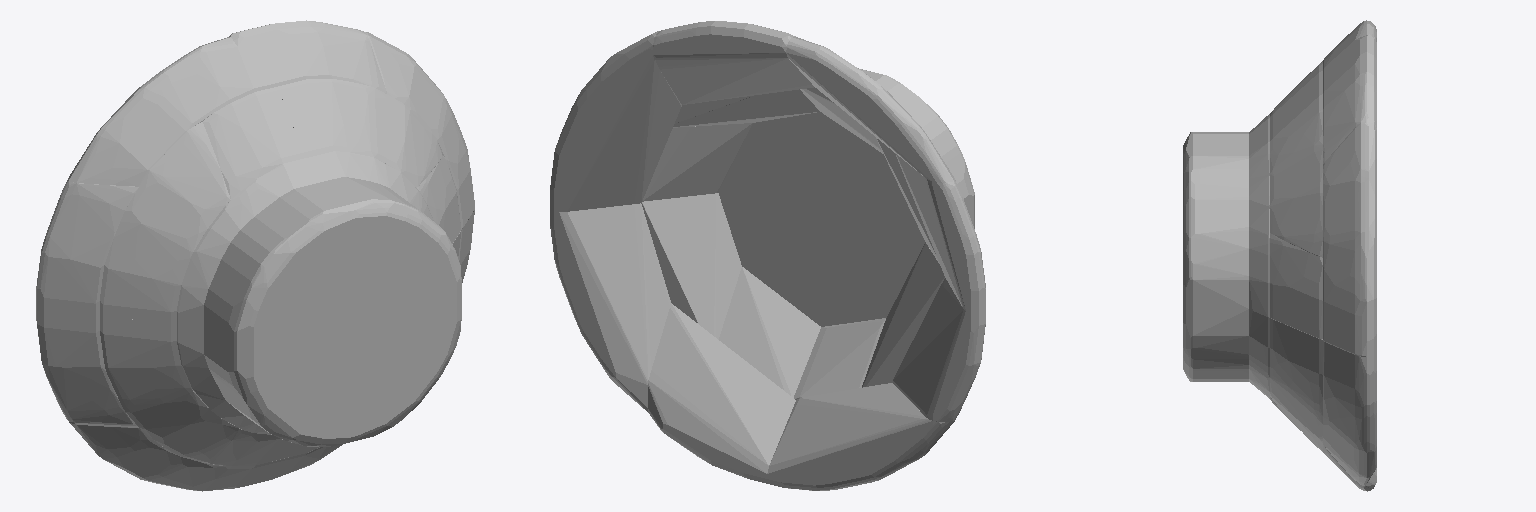
URDF robot description (root):
<robot name="root">
  <link name="link_coacd_convex_piece_0">
    <inertial>
      <origin xyz="0 0 0" rpy="0 0 0"/>
      <inertia ixx="2.73E-03" ixy="-2.59E-05" ixz="-3.11E-06" iyy="5.12E-03" iyz="-1.61E-05" izz="2.74E-03"/>
    </inertial>
    <visual>
      <origin xyz="0 0 0" rpy="0 0 0"/>
      <geometry>
        <mesh filename="coacd_convex_piece_0.obj" scale="1.0000E+00 1.0000E+00 1.0000E+00"/>
      </geometry>
      <material name="">
        <color rgba="7.50E-01 7.50E-01 7.50E-01 1"/>
      </material>
    </visual>
    <collision>
      <origin xyz="0 0 0" rpy="0 0 0"/>
      <geometry>
        <mesh filename="coacd_convex_piece_0.obj" scale="1.0000E+00 1.0000E+00 1.0000E+00"/>
      </geometry>
    </collision>
  </link>
  <link name="link_coacd_convex_piece_1">
    <inertial>
      <origin xyz="0 0 0" rpy="0 0 0"/>
      <inertia ixx="1.30E-02" ixy="-1.54E-05" ixz="-3.33E-06" iyy="1.23E-02" iyz="-5.77E-05" izz="1.29E-02"/>
    </inertial>
    <visual>
      <origin xyz="0 0 0" rpy="0 0 0"/>
      <geometry>
        <mesh filename="coacd_convex_piece_1.obj" scale="1.0000E+00 1.0000E+00 1.0000E+00"/>
      </geometry>
      <material name="">
        <color rgba="7.50E-01 7.50E-01 7.50E-01 1"/>
      </material>
    </visual>
    <collision>
      <origin xyz="0 0 0" rpy="0 0 0"/>
      <geometry>
        <mesh filename="coacd_convex_piece_1.obj" scale="1.0000E+00 1.0000E+00 1.0000E+00"/>
      </geometry>
    </collision>
  </link>
  <joint name="link_coacd_convex_piece_1_joint" type="fixed">
    <origin xyz="0 0 0" rpy="0 0 0"/>
    <parent link="link_coacd_convex_piece_0"/>
    <child link="link_coacd_convex_piece_1"/>
  </joint>
  <link name="link_coacd_convex_piece_2">
    <inertial>
      <origin xyz="0 0 0" rpy="0 0 0"/>
      <inertia ixx="3.57E-03" ixy="-2.92E-03" ixz="-3.34E-03" iyy="9.53E-03" iyz="-1.50E-03" izz="8.38E-03"/>
    </inertial>
    <visual>
      <origin xyz="0 0 0" rpy="0 0 0"/>
      <geometry>
        <mesh filename="coacd_convex_piece_2.obj" scale="1.0000E+00 1.0000E+00 1.0000E+00"/>
      </geometry>
      <material name="">
        <color rgba="7.50E-01 7.50E-01 7.50E-01 1"/>
      </material>
    </visual>
    <collision>
      <origin xyz="0 0 0" rpy="0 0 0"/>
      <geometry>
        <mesh filename="coacd_convex_piece_2.obj" scale="1.0000E+00 1.0000E+00 1.0000E+00"/>
      </geometry>
    </collision>
  </link>
  <joint name="link_coacd_convex_piece_2_joint" type="fixed">
    <origin xyz="0 0 0" rpy="0 0 0"/>
    <parent link="link_coacd_convex_piece_1"/>
    <child link="link_coacd_convex_piece_2"/>
  </joint>
  <link name="link_coacd_convex_piece_3">
    <inertial>
      <origin xyz="0 0 0" rpy="0 0 0"/>
      <inertia ixx="6.97E-03" ixy="-6.06E-04" ixz="-1.56E-03" iyy="6.86E-03" iyz="-2.25E-03" izz="1.53E-03"/>
    </inertial>
    <visual>
      <origin xyz="0 0 0" rpy="0 0 0"/>
      <geometry>
        <mesh filename="coacd_convex_piece_3.obj" scale="1.0000E+00 1.0000E+00 1.0000E+00"/>
      </geometry>
      <material name="">
        <color rgba="7.50E-01 7.50E-01 7.50E-01 1"/>
      </material>
    </visual>
    <collision>
      <origin xyz="0 0 0" rpy="0 0 0"/>
      <geometry>
        <mesh filename="coacd_convex_piece_3.obj" scale="1.0000E+00 1.0000E+00 1.0000E+00"/>
      </geometry>
    </collision>
  </link>
  <joint name="link_coacd_convex_piece_3_joint" type="fixed">
    <origin xyz="0 0 0" rpy="0 0 0"/>
    <parent link="link_coacd_convex_piece_2"/>
    <child link="link_coacd_convex_piece_3"/>
  </joint>
  <link name="link_coacd_convex_piece_4">
    <inertial>
      <origin xyz="0 0 0" rpy="0 0 0"/>
      <inertia ixx="5.84E-03" ixy="1.18E-03" ixz="2.70E-03" iyy="6.87E-03" iyz="-2.05E-03" izz="2.75E-03"/>
    </inertial>
    <visual>
      <origin xyz="0 0 0" rpy="0 0 0"/>
      <geometry>
        <mesh filename="coacd_convex_piece_4.obj" scale="1.0000E+00 1.0000E+00 1.0000E+00"/>
      </geometry>
      <material name="">
        <color rgba="7.50E-01 7.50E-01 7.50E-01 1"/>
      </material>
    </visual>
    <collision>
      <origin xyz="0 0 0" rpy="0 0 0"/>
      <geometry>
        <mesh filename="coacd_convex_piece_4.obj" scale="1.0000E+00 1.0000E+00 1.0000E+00"/>
      </geometry>
    </collision>
  </link>
  <joint name="link_coacd_convex_piece_4_joint" type="fixed">
    <origin xyz="0 0 0" rpy="0 0 0"/>
    <parent link="link_coacd_convex_piece_3"/>
    <child link="link_coacd_convex_piece_4"/>
  </joint>
  <link name="link_coacd_convex_piece_5">
    <inertial>
      <origin xyz="0 0 0" rpy="0 0 0"/>
      <inertia ixx="1.43E-03" ixy="1.79E-03" ixz="1.62E-03" iyy="5.60E-03" iyz="-6.23E-04" izz="5.51E-03"/>
    </inertial>
    <visual>
      <origin xyz="0 0 0" rpy="0 0 0"/>
      <geometry>
        <mesh filename="coacd_convex_piece_5.obj" scale="1.0000E+00 1.0000E+00 1.0000E+00"/>
      </geometry>
      <material name="">
        <color rgba="7.50E-01 7.50E-01 7.50E-01 1"/>
      </material>
    </visual>
    <collision>
      <origin xyz="0 0 0" rpy="0 0 0"/>
      <geometry>
        <mesh filename="coacd_convex_piece_5.obj" scale="1.0000E+00 1.0000E+00 1.0000E+00"/>
      </geometry>
    </collision>
  </link>
  <joint name="link_coacd_convex_piece_5_joint" type="fixed">
    <origin xyz="0 0 0" rpy="0 0 0"/>
    <parent link="link_coacd_convex_piece_4"/>
    <child link="link_coacd_convex_piece_5"/>
  </joint>
  <link name="link_coacd_convex_piece_6">
    <inertial>
      <origin xyz="0 0 0" rpy="0 0 0"/>
      <inertia ixx="2.70E-03" ixy="-2.49E-03" ixz="2.72E-03" iyy="8.02E-03" iyz="1.15E-03" izz="7.29E-03"/>
    </inertial>
    <visual>
      <origin xyz="0 0 0" rpy="0 0 0"/>
      <geometry>
        <mesh filename="coacd_convex_piece_6.obj" scale="1.0000E+00 1.0000E+00 1.0000E+00"/>
      </geometry>
      <material name="">
        <color rgba="7.50E-01 7.50E-01 7.50E-01 1"/>
      </material>
    </visual>
    <collision>
      <origin xyz="0 0 0" rpy="0 0 0"/>
      <geometry>
        <mesh filename="coacd_convex_piece_6.obj" scale="1.0000E+00 1.0000E+00 1.0000E+00"/>
      </geometry>
    </collision>
  </link>
  <joint name="link_coacd_convex_piece_6_joint" type="fixed">
    <origin xyz="0 0 0" rpy="0 0 0"/>
    <parent link="link_coacd_convex_piece_5"/>
    <child link="link_coacd_convex_piece_6"/>
  </joint>
  <link name="link_coacd_convex_piece_7">
    <inertial>
      <origin xyz="0 0 0" rpy="0 0 0"/>
      <inertia ixx="6.26E-03" ixy="-7.31E-04" ixz="1.87E-03" iyy="6.42E-03" iyz="2.04E-03" izz="1.68E-03"/>
    </inertial>
    <visual>
      <origin xyz="0 0 0" rpy="0 0 0"/>
      <geometry>
        <mesh filename="coacd_convex_piece_7.obj" scale="1.0000E+00 1.0000E+00 1.0000E+00"/>
      </geometry>
      <material name="">
        <color rgba="7.50E-01 7.50E-01 7.50E-01 1"/>
      </material>
    </visual>
    <collision>
      <origin xyz="0 0 0" rpy="0 0 0"/>
      <geometry>
        <mesh filename="coacd_convex_piece_7.obj" scale="1.0000E+00 1.0000E+00 1.0000E+00"/>
      </geometry>
    </collision>
  </link>
  <joint name="link_coacd_convex_piece_7_joint" type="fixed">
    <origin xyz="0 0 0" rpy="0 0 0"/>
    <parent link="link_coacd_convex_piece_6"/>
    <child link="link_coacd_convex_piece_7"/>
  </joint>
  <link name="link_coacd_convex_piece_8">
    <inertial>
      <origin xyz="0 0 0" rpy="0 0 0"/>
      <inertia ixx="1.38E-03" ixy="1.73E-03" ixz="-1.59E-03" iyy="5.45E-03" iyz="6.02E-04" izz="5.35E-03"/>
    </inertial>
    <visual>
      <origin xyz="0 0 0" rpy="0 0 0"/>
      <geometry>
        <mesh filename="coacd_convex_piece_8.obj" scale="1.0000E+00 1.0000E+00 1.0000E+00"/>
      </geometry>
      <material name="">
        <color rgba="7.50E-01 7.50E-01 7.50E-01 1"/>
      </material>
    </visual>
    <collision>
      <origin xyz="0 0 0" rpy="0 0 0"/>
      <geometry>
        <mesh filename="coacd_convex_piece_8.obj" scale="1.0000E+00 1.0000E+00 1.0000E+00"/>
      </geometry>
    </collision>
  </link>
  <joint name="link_coacd_convex_piece_8_joint" type="fixed">
    <origin xyz="0 0 0" rpy="0 0 0"/>
    <parent link="link_coacd_convex_piece_7"/>
    <child link="link_coacd_convex_piece_8"/>
  </joint>
  <link name="link_coacd_convex_piece_9">
    <inertial>
      <origin xyz="0 0 0" rpy="0 0 0"/>
      <inertia ixx="7.34E-03" ixy="1.31E-03" ixz="-2.98E-03" iyy="8.32E-03" iyz="2.54E-03" izz="3.09E-03"/>
    </inertial>
    <visual>
      <origin xyz="0 0 0" rpy="0 0 0"/>
      <geometry>
        <mesh filename="coacd_convex_piece_9.obj" scale="1.0000E+00 1.0000E+00 1.0000E+00"/>
      </geometry>
      <material name="">
        <color rgba="7.50E-01 7.50E-01 7.50E-01 1"/>
      </material>
    </visual>
    <collision>
      <origin xyz="0 0 0" rpy="0 0 0"/>
      <geometry>
        <mesh filename="coacd_convex_piece_9.obj" scale="1.0000E+00 1.0000E+00 1.0000E+00"/>
      </geometry>
    </collision>
  </link>
  <joint name="link_coacd_convex_piece_9_joint" type="fixed">
    <origin xyz="0 0 0" rpy="0 0 0"/>
    <parent link="link_coacd_convex_piece_8"/>
    <child link="link_coacd_convex_piece_9"/>
  </joint>
  <link name="link_coacd_convex_piece_10">
    <inertial>
      <origin xyz="0 0 0" rpy="0 0 0"/>
      <inertia ixx="3.14E-03" ixy="-2.91E-04" ixz="-1.53E-03" iyy="4.26E-03" iyz="-4.79E-04" izz="1.29E-03"/>
    </inertial>
    <visual>
      <origin xyz="0 0 0" rpy="0 0 0"/>
      <geometry>
        <mesh filename="coacd_convex_piece_10.obj" scale="1.0000E+00 1.0000E+00 1.0000E+00"/>
      </geometry>
      <material name="">
        <color rgba="7.50E-01 7.50E-01 7.50E-01 1"/>
      </material>
    </visual>
    <collision>
      <origin xyz="0 0 0" rpy="0 0 0"/>
      <geometry>
        <mesh filename="coacd_convex_piece_10.obj" scale="1.0000E+00 1.0000E+00 1.0000E+00"/>
      </geometry>
    </collision>
  </link>
  <joint name="link_coacd_convex_piece_10_joint" type="fixed">
    <origin xyz="0 0 0" rpy="0 0 0"/>
    <parent link="link_coacd_convex_piece_9"/>
    <child link="link_coacd_convex_piece_10"/>
  </joint>
  <link name="link_coacd_convex_piece_11">
    <inertial>
      <origin xyz="0 0 0" rpy="0 0 0"/>
      <inertia ixx="2.53E-04" ixy="-2.44E-04" ixz="-5.54E-04" iyy="2.19E-03" iyz="-6.50E-05" izz="2.00E-03"/>
    </inertial>
    <visual>
      <origin xyz="0 0 0" rpy="0 0 0"/>
      <geometry>
        <mesh filename="coacd_convex_piece_11.obj" scale="1.0000E+00 1.0000E+00 1.0000E+00"/>
      </geometry>
      <material name="">
        <color rgba="7.50E-01 7.50E-01 7.50E-01 1"/>
      </material>
    </visual>
    <collision>
      <origin xyz="0 0 0" rpy="0 0 0"/>
      <geometry>
        <mesh filename="coacd_convex_piece_11.obj" scale="1.0000E+00 1.0000E+00 1.0000E+00"/>
      </geometry>
    </collision>
  </link>
  <joint name="link_coacd_convex_piece_11_joint" type="fixed">
    <origin xyz="0 0 0" rpy="0 0 0"/>
    <parent link="link_coacd_convex_piece_10"/>
    <child link="link_coacd_convex_piece_11"/>
  </joint>
  <link name="link_coacd_convex_piece_12">
    <inertial>
      <origin xyz="0 0 0" rpy="0 0 0"/>
      <inertia ixx="1.21E-03" ixy="-4.81E-04" ixz="1.49E-03" iyy="4.20E-03" iyz="2.61E-04" izz="3.16E-03"/>
    </inertial>
    <visual>
      <origin xyz="0 0 0" rpy="0 0 0"/>
      <geometry>
        <mesh filename="coacd_convex_piece_12.obj" scale="1.0000E+00 1.0000E+00 1.0000E+00"/>
      </geometry>
      <material name="">
        <color rgba="7.50E-01 7.50E-01 7.50E-01 1"/>
      </material>
    </visual>
    <collision>
      <origin xyz="0 0 0" rpy="0 0 0"/>
      <geometry>
        <mesh filename="coacd_convex_piece_12.obj" scale="1.0000E+00 1.0000E+00 1.0000E+00"/>
      </geometry>
    </collision>
  </link>
  <joint name="link_coacd_convex_piece_12_joint" type="fixed">
    <origin xyz="0 0 0" rpy="0 0 0"/>
    <parent link="link_coacd_convex_piece_11"/>
    <child link="link_coacd_convex_piece_12"/>
  </joint>
  <link name="link_coacd_convex_piece_13">
    <inertial>
      <origin xyz="0 0 0" rpy="0 0 0"/>
      <inertia ixx="1.93E-03" ixy="-7.00E-05" ixz="5.64E-04" iyy="2.13E-03" iyz="2.28E-04" izz="2.65E-04"/>
    </inertial>
    <visual>
      <origin xyz="0 0 0" rpy="0 0 0"/>
      <geometry>
        <mesh filename="coacd_convex_piece_13.obj" scale="1.0000E+00 1.0000E+00 1.0000E+00"/>
      </geometry>
      <material name="">
        <color rgba="7.50E-01 7.50E-01 7.50E-01 1"/>
      </material>
    </visual>
    <collision>
      <origin xyz="0 0 0" rpy="0 0 0"/>
      <geometry>
        <mesh filename="coacd_convex_piece_13.obj" scale="1.0000E+00 1.0000E+00 1.0000E+00"/>
      </geometry>
    </collision>
  </link>
  <joint name="link_coacd_convex_piece_13_joint" type="fixed">
    <origin xyz="0 0 0" rpy="0 0 0"/>
    <parent link="link_coacd_convex_piece_12"/>
    <child link="link_coacd_convex_piece_13"/>
  </joint>
  <link name="link_coacd_convex_piece_14">
    <inertial>
      <origin xyz="0 0 0" rpy="0 0 0"/>
      <inertia ixx="1.80E-03" ixy="5.26E-05" ixz="5.14E-04" iyy="1.97E-03" iyz="-2.17E-04" izz="2.32E-04"/>
    </inertial>
    <visual>
      <origin xyz="0 0 0" rpy="0 0 0"/>
      <geometry>
        <mesh filename="coacd_convex_piece_14.obj" scale="1.0000E+00 1.0000E+00 1.0000E+00"/>
      </geometry>
      <material name="">
        <color rgba="7.50E-01 7.50E-01 7.50E-01 1"/>
      </material>
    </visual>
    <collision>
      <origin xyz="0 0 0" rpy="0 0 0"/>
      <geometry>
        <mesh filename="coacd_convex_piece_14.obj" scale="1.0000E+00 1.0000E+00 1.0000E+00"/>
      </geometry>
    </collision>
  </link>
  <joint name="link_coacd_convex_piece_14_joint" type="fixed">
    <origin xyz="0 0 0" rpy="0 0 0"/>
    <parent link="link_coacd_convex_piece_13"/>
    <child link="link_coacd_convex_piece_14"/>
  </joint>
  <link name="link_coacd_convex_piece_15">
    <inertial>
      <origin xyz="0 0 0" rpy="0 0 0"/>
      <inertia ixx="1.16E-03" ixy="4.07E-04" ixz="1.38E-03" iyy="3.75E-03" iyz="-2.55E-04" izz="2.74E-03"/>
    </inertial>
    <visual>
      <origin xyz="0 0 0" rpy="0 0 0"/>
      <geometry>
        <mesh filename="coacd_convex_piece_15.obj" scale="1.0000E+00 1.0000E+00 1.0000E+00"/>
      </geometry>
      <material name="">
        <color rgba="7.50E-01 7.50E-01 7.50E-01 1"/>
      </material>
    </visual>
    <collision>
      <origin xyz="0 0 0" rpy="0 0 0"/>
      <geometry>
        <mesh filename="coacd_convex_piece_15.obj" scale="1.0000E+00 1.0000E+00 1.0000E+00"/>
      </geometry>
    </collision>
  </link>
  <joint name="link_coacd_convex_piece_15_joint" type="fixed">
    <origin xyz="0 0 0" rpy="0 0 0"/>
    <parent link="link_coacd_convex_piece_14"/>
    <child link="link_coacd_convex_piece_15"/>
  </joint>
  <link name="link_coacd_convex_piece_16">
    <inertial>
      <origin xyz="0 0 0" rpy="0 0 0"/>
      <inertia ixx="1.52E-03" ixy="3.76E-05" ixz="-3.77E-04" iyy="1.62E-03" iyz="1.77E-04" izz="1.51E-04"/>
    </inertial>
    <visual>
      <origin xyz="0 0 0" rpy="0 0 0"/>
      <geometry>
        <mesh filename="coacd_convex_piece_16.obj" scale="1.0000E+00 1.0000E+00 1.0000E+00"/>
      </geometry>
      <material name="">
        <color rgba="7.50E-01 7.50E-01 7.50E-01 1"/>
      </material>
    </visual>
    <collision>
      <origin xyz="0 0 0" rpy="0 0 0"/>
      <geometry>
        <mesh filename="coacd_convex_piece_16.obj" scale="1.0000E+00 1.0000E+00 1.0000E+00"/>
      </geometry>
    </collision>
  </link>
  <joint name="link_coacd_convex_piece_16_joint" type="fixed">
    <origin xyz="0 0 0" rpy="0 0 0"/>
    <parent link="link_coacd_convex_piece_15"/>
    <child link="link_coacd_convex_piece_16"/>
  </joint>
  <link name="link_coacd_convex_piece_17">
    <inertial>
      <origin xyz="0 0 0" rpy="0 0 0"/>
      <inertia ixx="1.44E-03" ixy="4.55E-04" ixz="-1.58E-03" iyy="4.31E-03" iyz="2.92E-04" izz="3.04E-03"/>
    </inertial>
    <visual>
      <origin xyz="0 0 0" rpy="0 0 0"/>
      <geometry>
        <mesh filename="coacd_convex_piece_17.obj" scale="1.0000E+00 1.0000E+00 1.0000E+00"/>
      </geometry>
      <material name="">
        <color rgba="7.50E-01 7.50E-01 7.50E-01 1"/>
      </material>
    </visual>
    <collision>
      <origin xyz="0 0 0" rpy="0 0 0"/>
      <geometry>
        <mesh filename="coacd_convex_piece_17.obj" scale="1.0000E+00 1.0000E+00 1.0000E+00"/>
      </geometry>
    </collision>
  </link>
  <joint name="link_coacd_convex_piece_17_joint" type="fixed">
    <origin xyz="0 0 0" rpy="0 0 0"/>
    <parent link="link_coacd_convex_piece_16"/>
    <child link="link_coacd_convex_piece_17"/>
  </joint>
</robot>

--- What the picture shows (computed from the rendered views, not written in the file) ---
Views: 3 orthographic renders of the robot side by side, from view 1: azimuth 30°, elevation 25°; view 2: azimuth 150°, elevation 25°; view 3: azimuth 270°, elevation 25°.
Robot: root — 18 links, 17 joints (17 fixed); root link link_coacd_convex_piece_0; default pose: all joints at 0.
Links seen in each view (by area): view 1: link_coacd_convex_piece_1, link_coacd_convex_piece_15, link_coacd_convex_piece_4, link_coacd_convex_piece_0, link_coacd_convex_piece_17, link_coacd_convex_piece_10, link_coacd_convex_piece_5, link_coacd_convex_piece_3, link_coacd_convex_piece_8, link_coacd_convex_piece_14, link_coacd_convex_piece_9, link_coacd_convex_piece_2 (+4 smaller); view 2: link_coacd_convex_piece_0, link_coacd_convex_piece_6, link_coacd_convex_piece_7, link_coacd_convex_piece_2, link_coacd_convex_piece_9, link_coacd_convex_piece_3, link_coacd_convex_piece_12, link_coacd_convex_piece_8, link_coacd_convex_piece_4, link_coacd_convex_piece_13, link_coacd_convex_piece_5, link_coacd_convex_piece_11 (+6 smaller); view 3: link_coacd_convex_piece_1, link_coacd_convex_piece_2, link_coacd_convex_piece_10, link_coacd_convex_piece_6, link_coacd_convex_piece_0, link_coacd_convex_piece_12, link_coacd_convex_piece_3, link_coacd_convex_piece_11, link_coacd_convex_piece_14, link_coacd_convex_piece_4.
Link boxes in pixels (x1,y1,x2,y2): link_coacd_convex_piece_1: (204,177,461,446); link_coacd_convex_piece_15: (100,122,230,323); link_coacd_convex_piece_4: (68,37,253,186); link_coacd_convex_piece_0: (177,151,433,434); link_coacd_convex_piece_17: (100,315,238,463); link_coacd_convex_piece_10: (277,79,442,187); link_coacd_convex_piece_5: (36,178,138,317); link_coacd_convex_piece_3: (229,20,386,93); link_coacd_convex_piece_8: (36,307,136,425); link_coacd_convex_piece_14: (203,87,304,198); link_coacd_convex_piece_9: (69,422,272,491); link_coacd_convex_piece_2: (365,32,474,228); link_coacd_convex_piece_0: (718,112,924,326); link_coacd_convex_piece_6: (550,203,670,411); link_coacd_convex_piece_7: (648,303,795,483); link_coacd_convex_piece_2: (550,31,681,211); link_coacd_convex_piece_9: (767,383,954,490); link_coacd_convex_piece_3: (653,21,813,104); link_coacd_convex_piece_12: (641,193,741,339); link_coacd_convex_piece_8: (893,278,985,421); link_coacd_convex_piece_4: (786,37,953,182); link_coacd_convex_piece_13: (719,267,820,397); link_coacd_convex_piece_5: (895,153,985,311); link_coacd_convex_piece_11: (642,123,752,201); link_coacd_convex_piece_1: (1183,132,1248,381); link_coacd_convex_piece_2: (1323,121,1376,356); link_coacd_convex_piece_10: (1270,81,1322,257); link_coacd_convex_piece_6: (1323,341,1376,485); link_coacd_convex_piece_0: (1249,114,1269,398); link_coacd_convex_piece_12: (1270,318,1322,451); link_coacd_convex_piece_3: (1323,34,1376,163); link_coacd_convex_piece_11: (1270,233,1322,338); link_coacd_convex_piece_14: (1270,62,1322,126); link_coacd_convex_piece_4: (1323,20,1376,68).
Bounding box of the posed robot: 1.84 × 0.7581 × 1.84 m (x, y, z).
18 mesh visuals loaded from 18 distinct referenced files (18 OBJ).